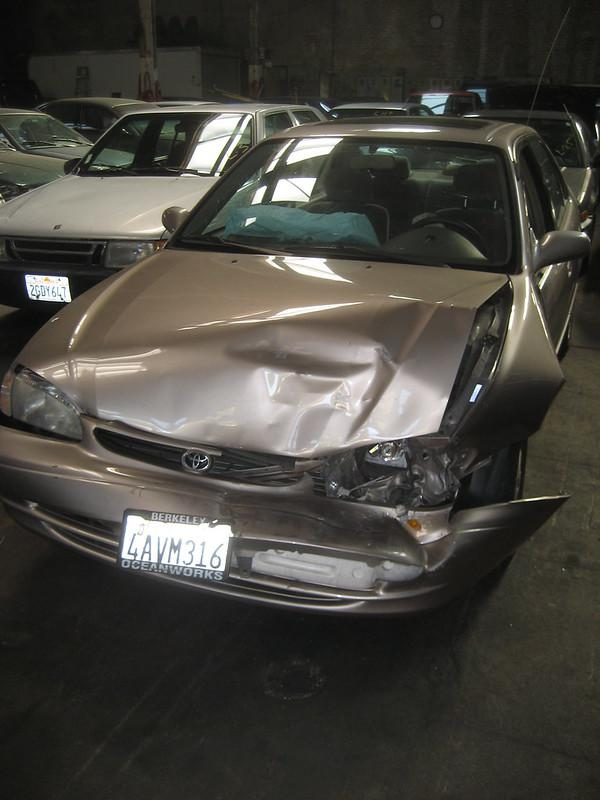bonnet-dent: (46, 243, 460, 458)
front-bumper-dent: (11, 430, 477, 607)
